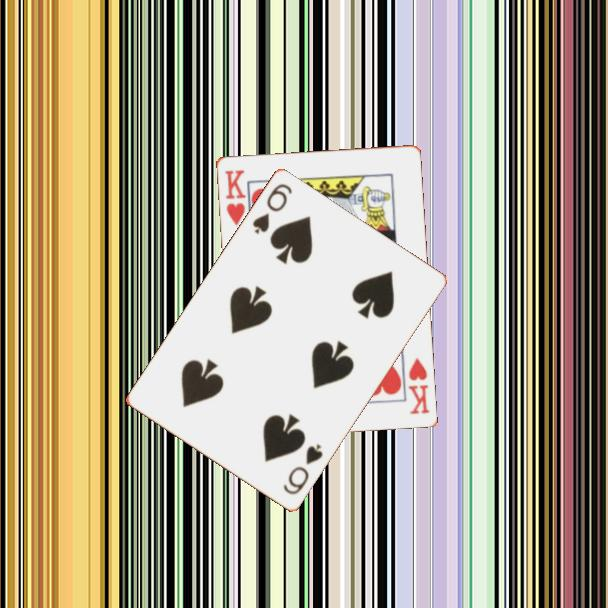h13: (405, 354, 432, 417), (221, 166, 248, 228)
s06: (280, 440, 326, 498), (249, 180, 295, 238)
